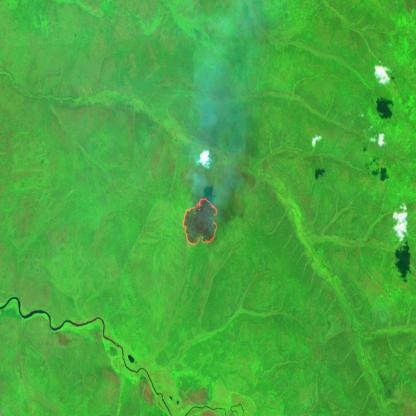fire: (181, 195, 219, 250)
